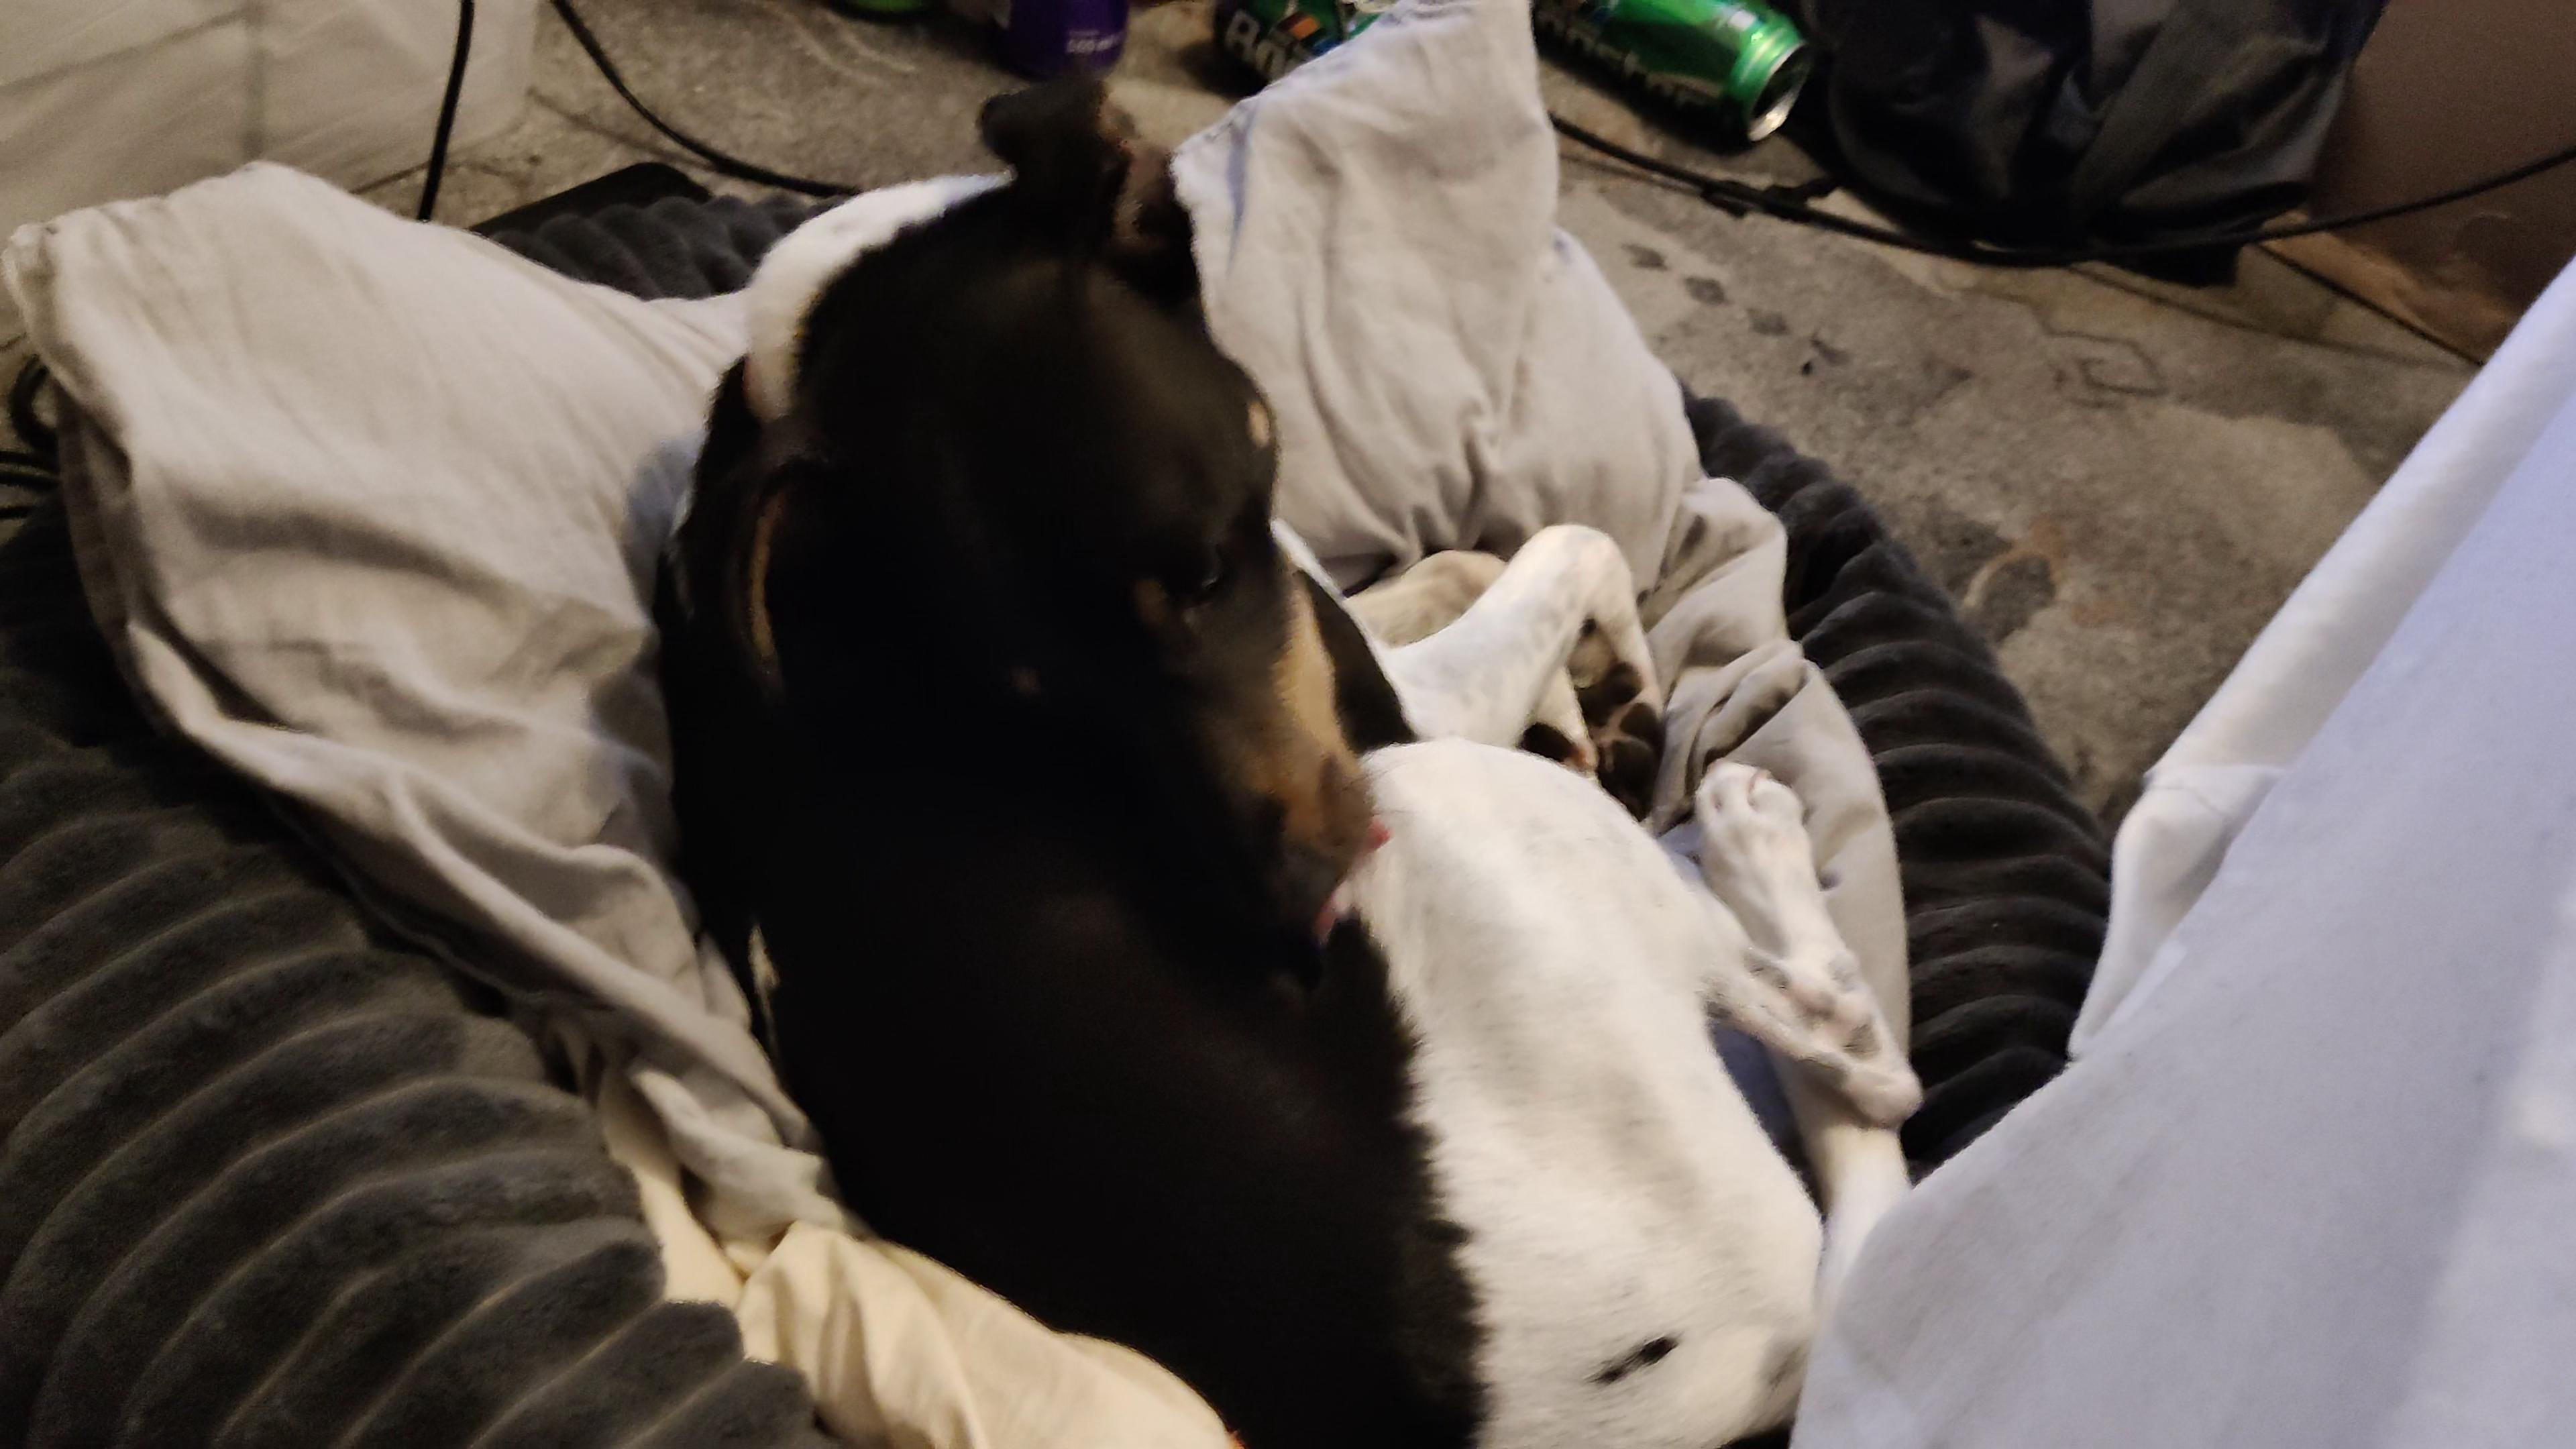Dog: (646, 60, 1937, 1449)
